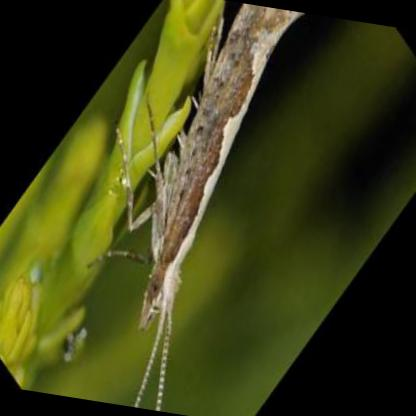plutella: (83, 3, 305, 406)
